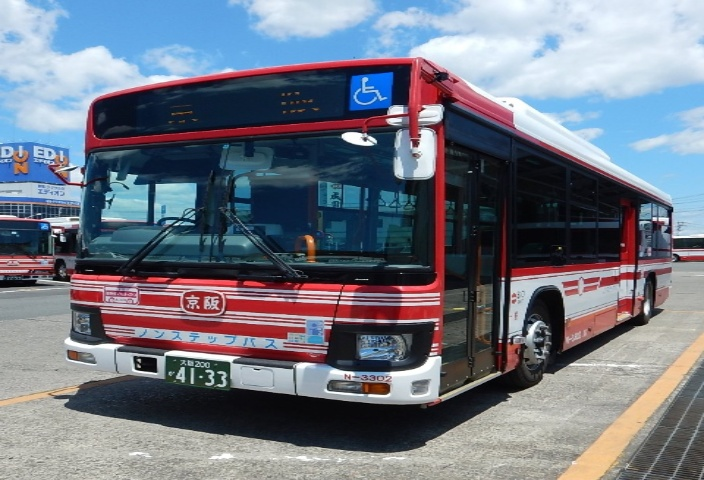bus: (46, 70, 679, 402)
